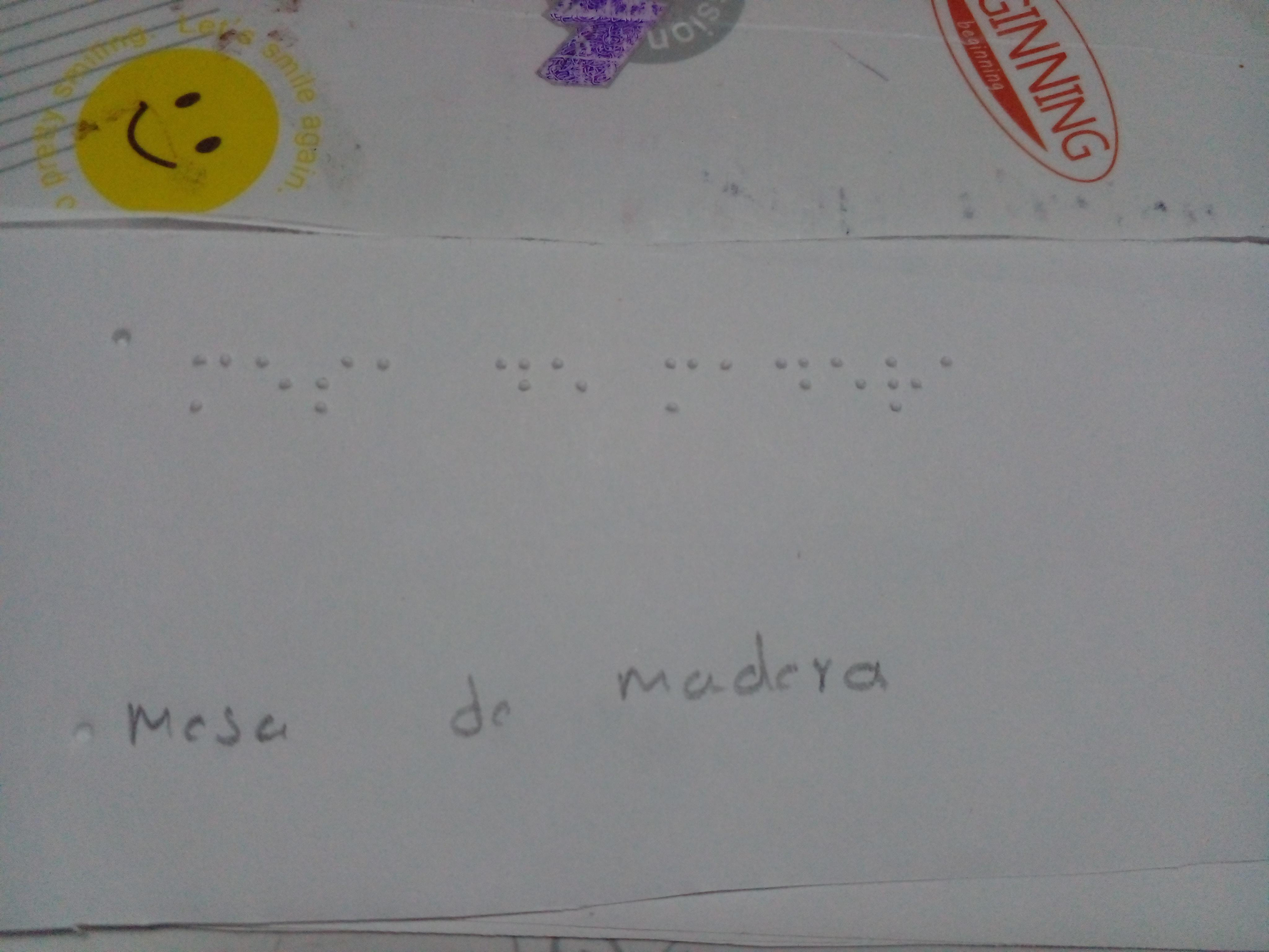a: (708, 347, 751, 398), (358, 346, 409, 384), (934, 341, 968, 389)
d: (480, 338, 542, 409), (768, 352, 826, 398)
e: (542, 344, 606, 420), (254, 349, 299, 414), (830, 349, 874, 412)
m: (172, 336, 243, 429), (644, 341, 708, 423)
r: (874, 342, 926, 423)
s: (305, 344, 359, 425)
